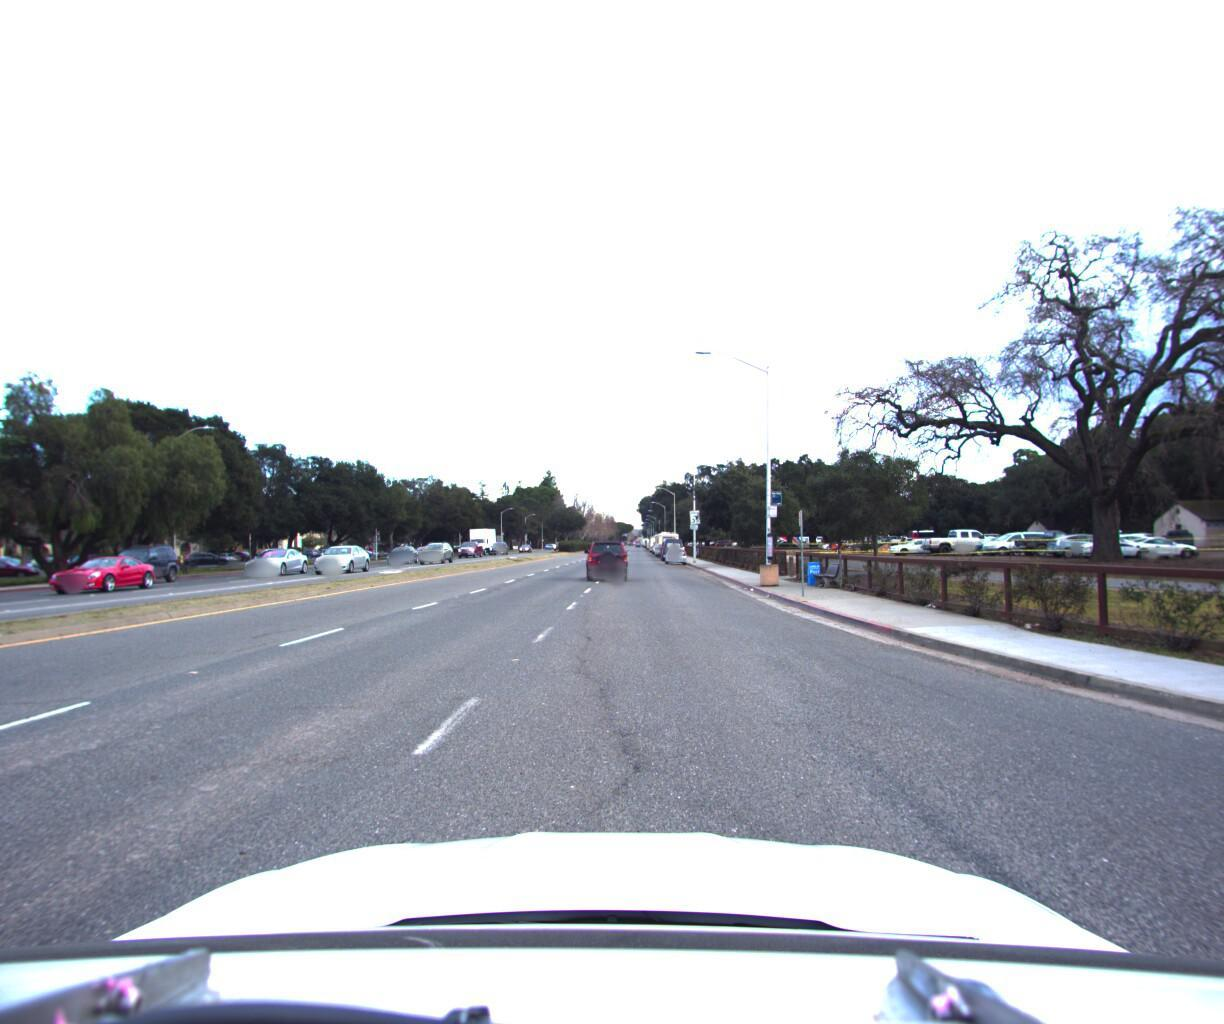car: (44, 550, 167, 594), (103, 541, 197, 584), (238, 544, 312, 574), (577, 534, 625, 579), (309, 543, 376, 573), (415, 538, 455, 562), (384, 544, 423, 563), (657, 530, 683, 555), (662, 539, 687, 558)
